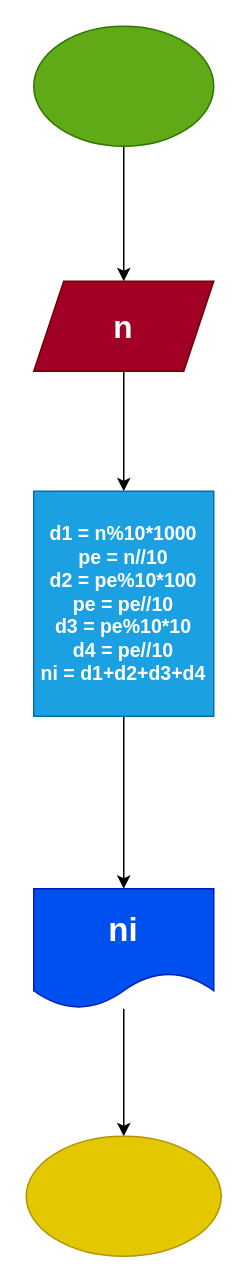
Image size: 248x1283. Some labels were removed from this diagram. Here are the shapes that lost their labels. From the top down, the box of each, then its label:
(32, 25, 214, 146): Inicio
(25, 1135, 221, 1256): Fin
